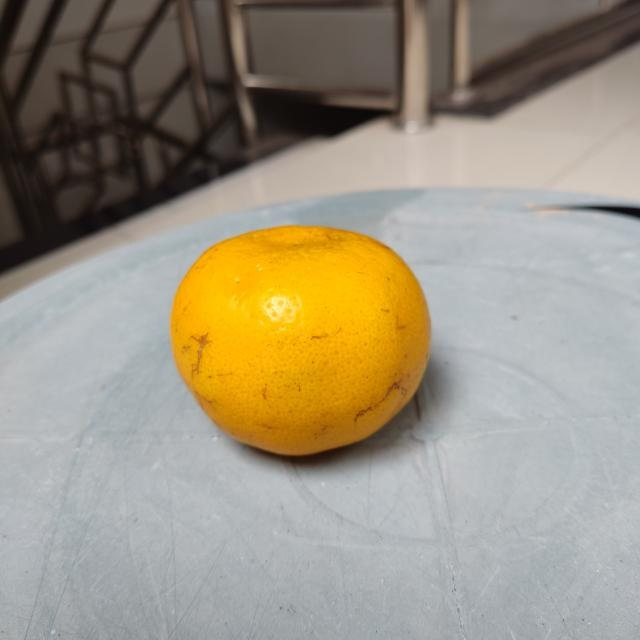agrume: (164, 224, 436, 460)
